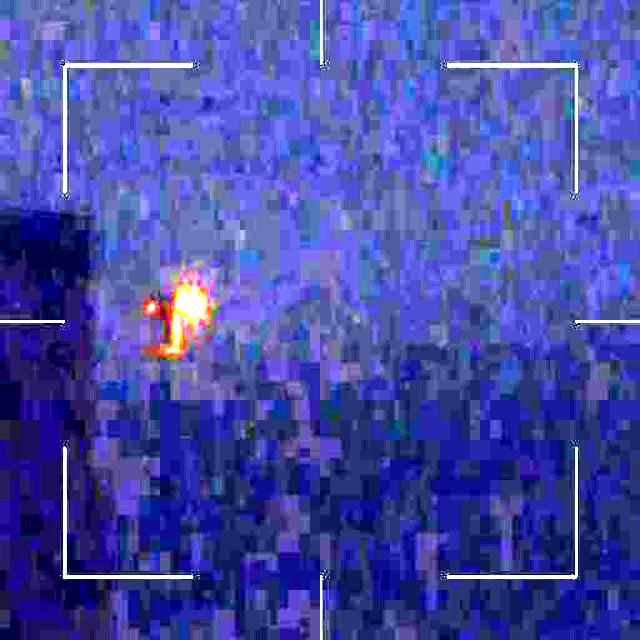bird: (138, 276, 211, 360)
